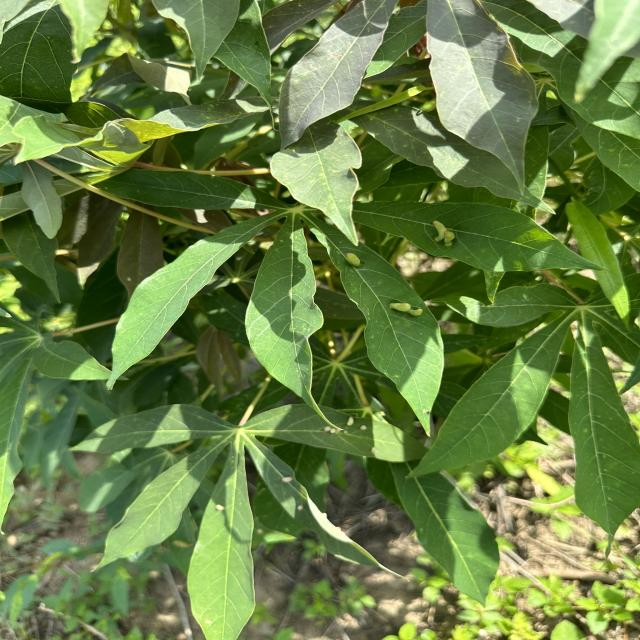Mosca: (386, 291, 441, 336), (315, 417, 377, 443), (425, 219, 458, 255), (337, 243, 368, 279), (204, 494, 233, 523)
